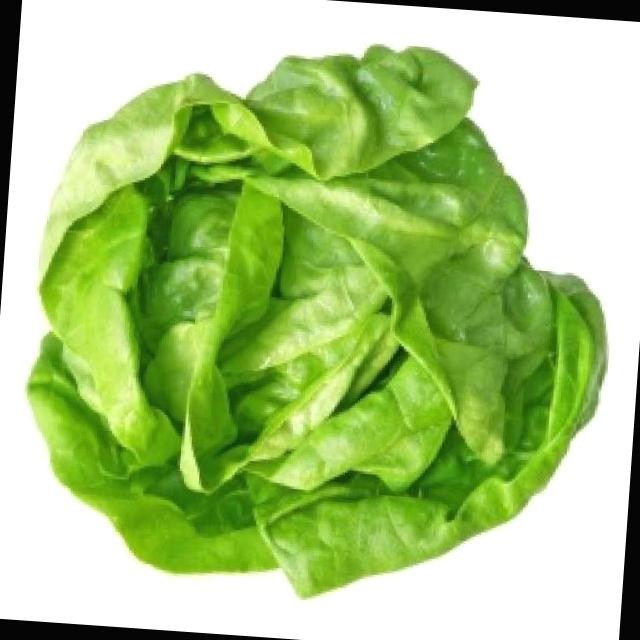Lettuce-Ready-to-Harvest: (29, 47, 605, 595)
